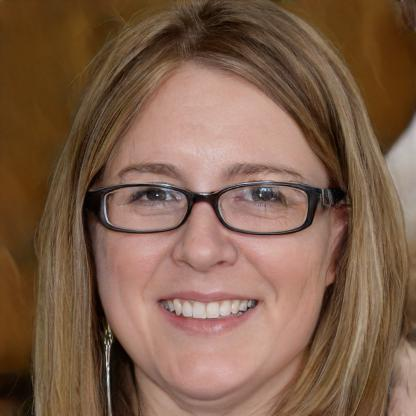glasses: (93, 178, 329, 240)
